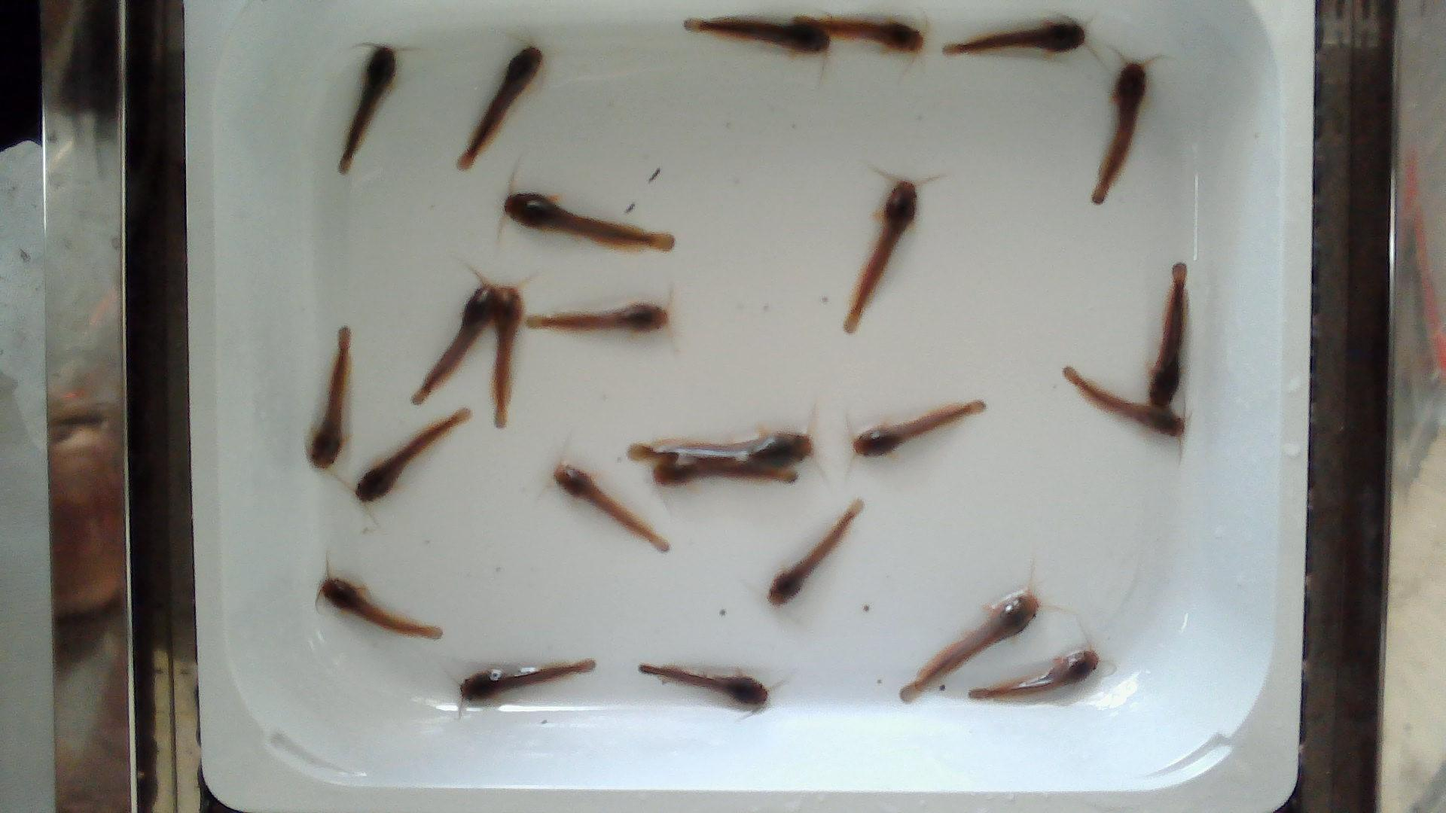lele: (901, 589, 1040, 700), (844, 181, 917, 333), (355, 408, 470, 501), (554, 461, 670, 553), (462, 45, 545, 166), (505, 192, 675, 251), (768, 500, 862, 605), (413, 282, 491, 403), (1091, 59, 1152, 204), (1064, 367, 1184, 438), (319, 574, 443, 638), (457, 659, 596, 715), (854, 400, 985, 456), (339, 46, 395, 172), (307, 327, 351, 470), (969, 650, 1100, 697), (633, 435, 811, 467), (640, 662, 765, 707), (685, 16, 830, 54), (944, 17, 1084, 53), (1149, 263, 1186, 399), (527, 302, 669, 337), (493, 287, 526, 426), (654, 455, 800, 486), (822, 15, 921, 51)
